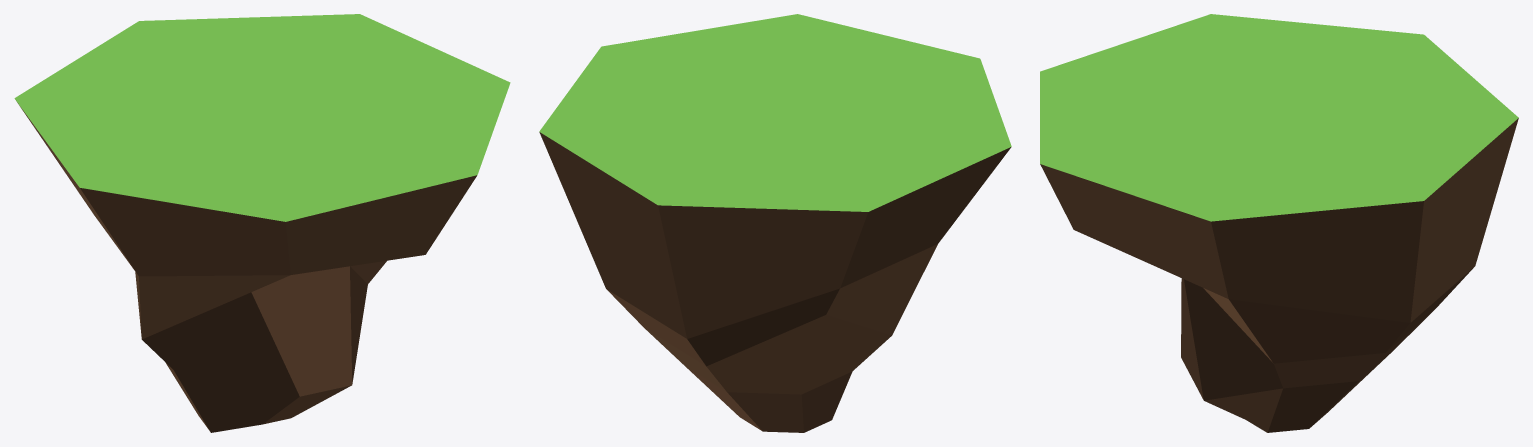
File: Island.fbx
3 renders of one model, left to right at view 1: azimuth 30°, elevation 25°; view 2: azimuth 150°, elevation 25°; view 3: azimuth 270°, elevation 25°, orthographic. The views are drawn at different scales.
Visible parts, largest first — view 1: Cylinder; view 2: Cylinder; view 3: Cylinder.
Boxes of the visible parts, x1,y1,x2,y2 form: Cylinder: (14,14,510,432); Cylinder: (539,14,1011,432); Cylinder: (1040,14,1518,432).
Bounding box in the file's own units: 729 × 493 × 711.
